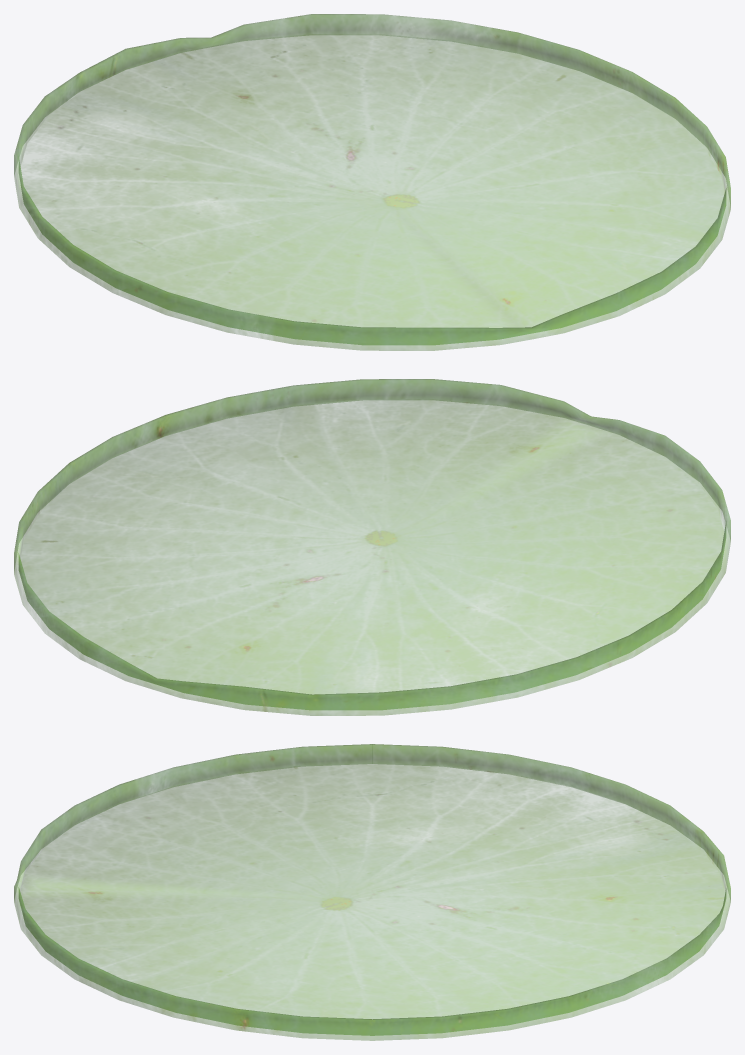
Rendered from preview.glb.
3 views of the same model, one above another, from view 1: azimuth 30°, elevation 25°; view 2: azimuth 150°, elevation 25°; view 3: azimuth 270°, elevation 25° (orthographic). The views are drawn at different scales.
Parts seen in each view (by area): view 1: Lilypad_Victoria_amazonica_B_Leaf_glb; view 2: Lilypad_Victoria_amazonica_B_Leaf_glb; view 3: Lilypad_Victoria_amazonica_B_Leaf_glb.
Part boxes in pixels (x1=…): Lilypad_Victoria_amazonica_B_Leaf_glb: x1=14, y1=14, x2=730, y2=350; Lilypad_Victoria_amazonica_B_Leaf_glb: x1=14, y1=379, x2=730, y2=715; Lilypad_Victoria_amazonica_B_Leaf_glb: x1=14, y1=744, x2=730, y2=1040.
Bounding box in the file's own units: 0.5681 × 0.019 × 0.6215.
Materials: 1 (1 with a texture image).
